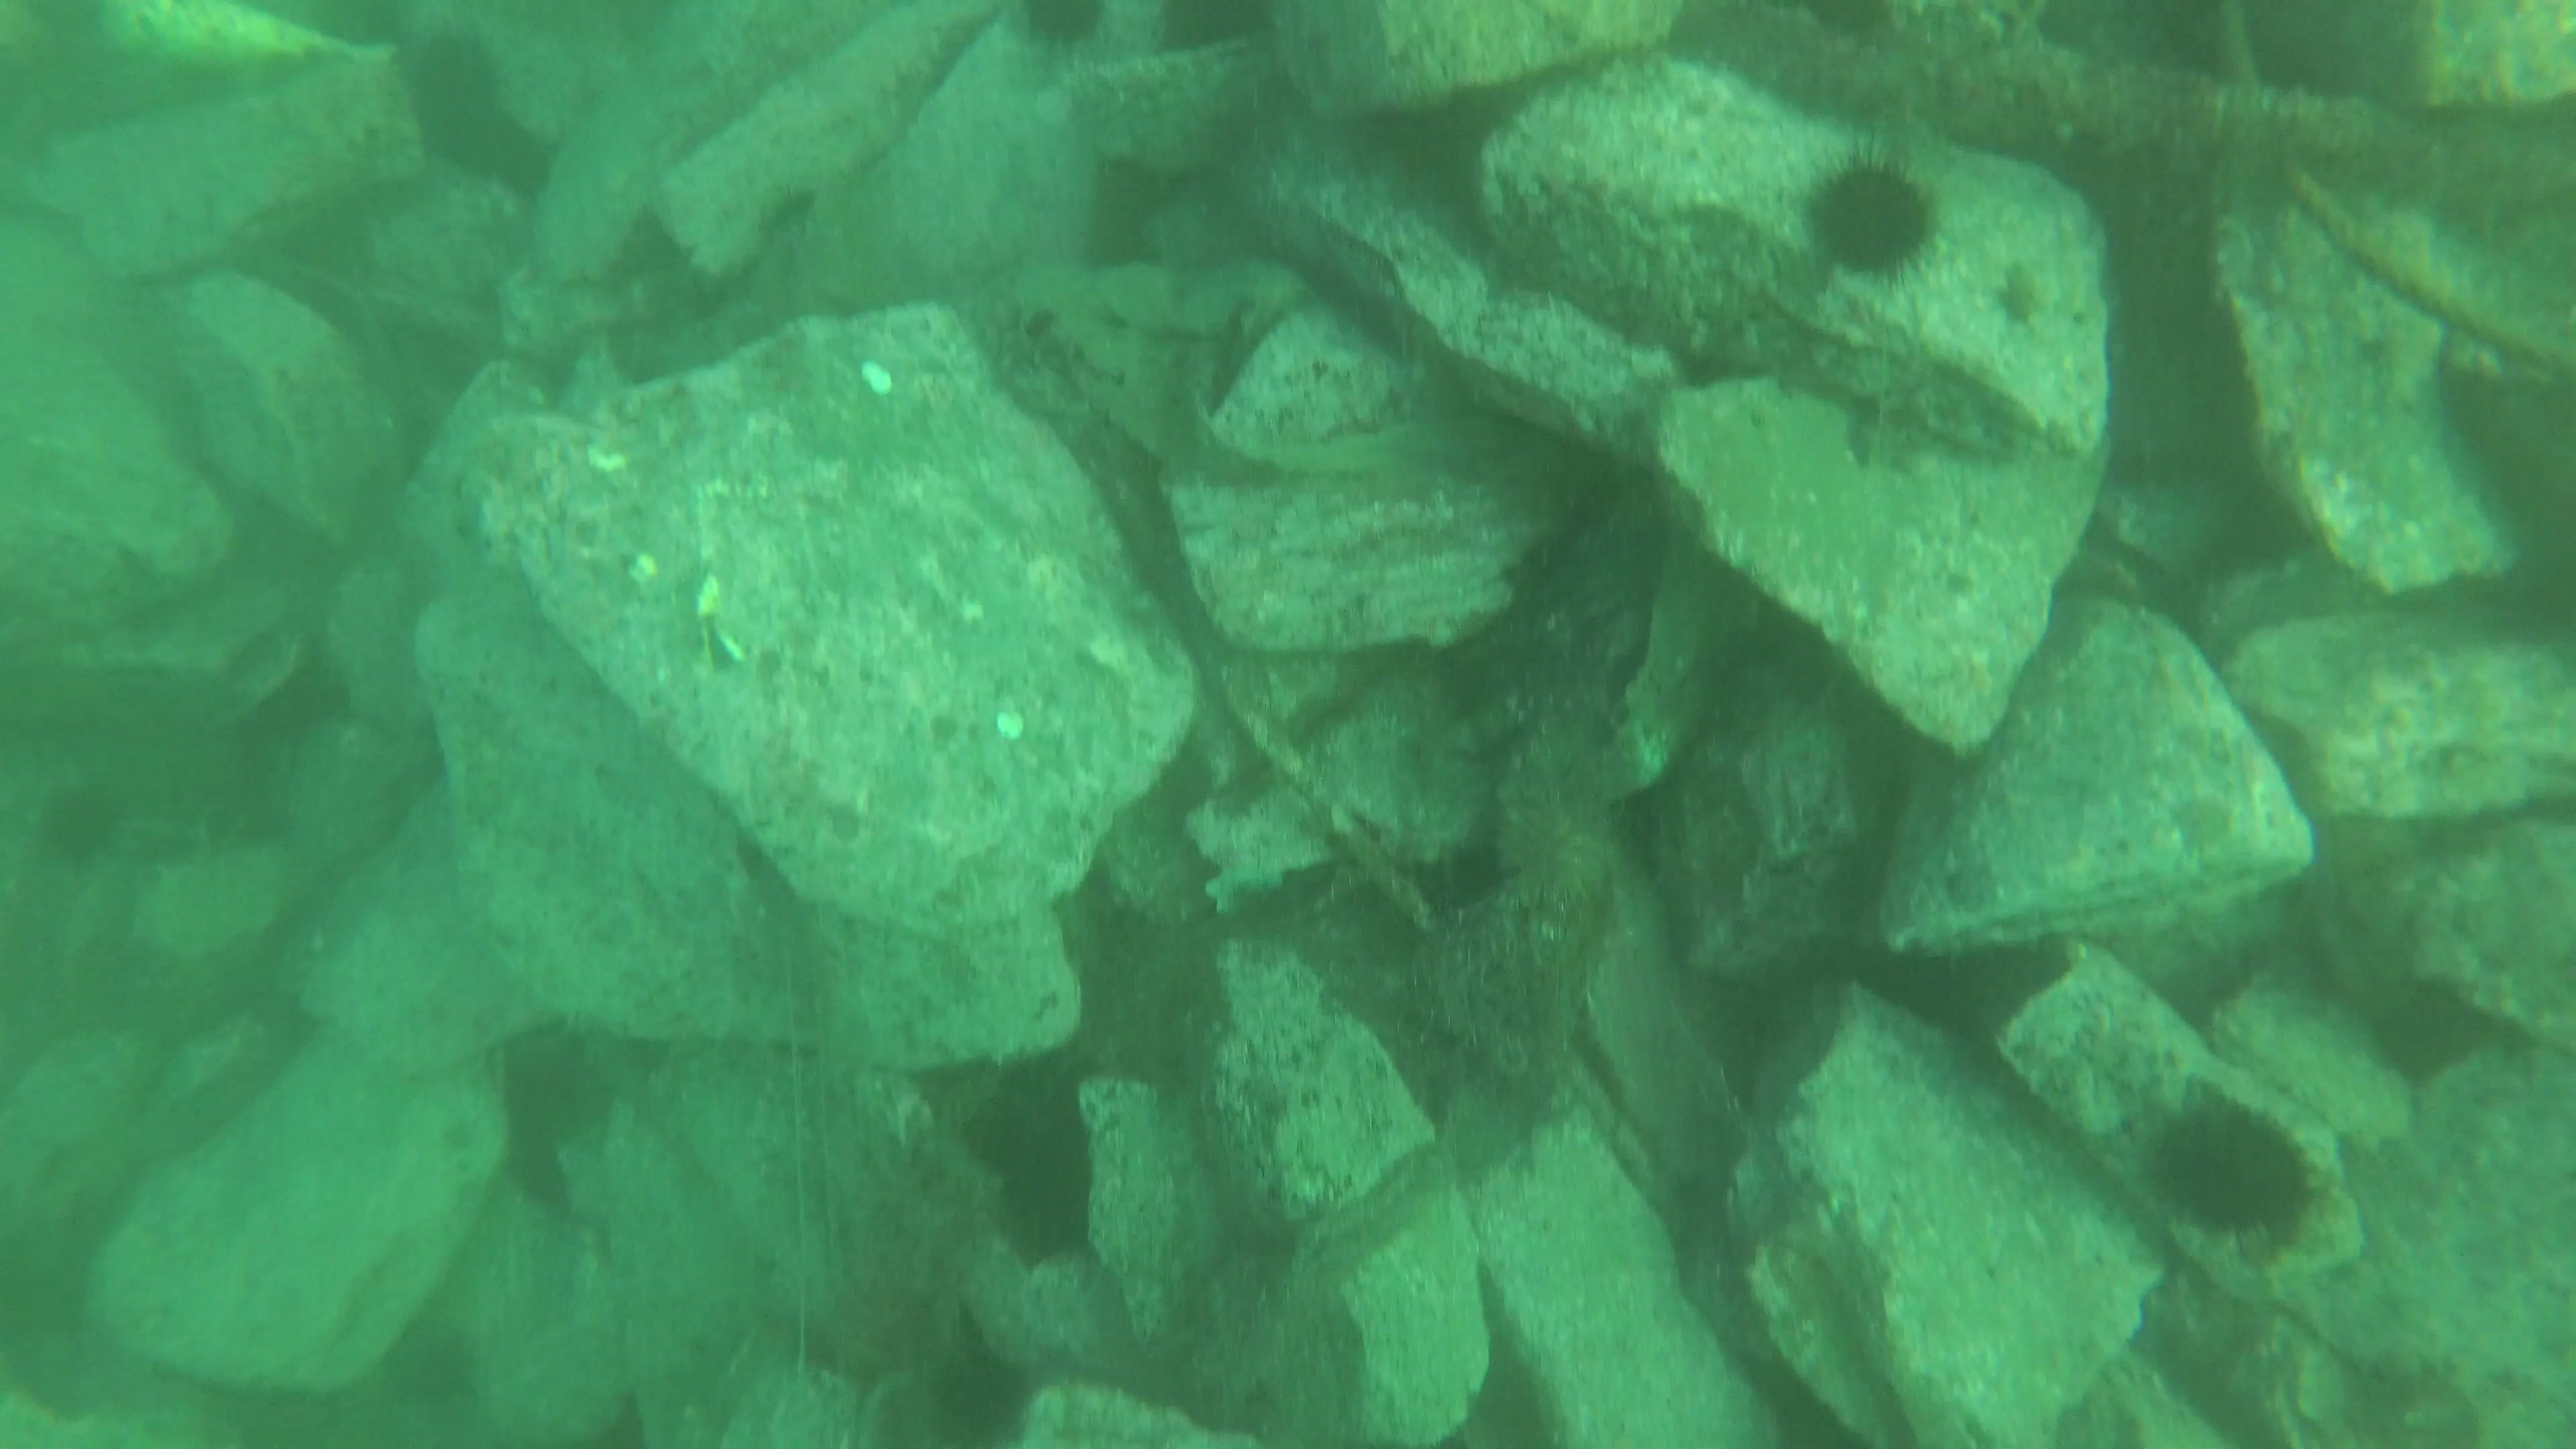echinus: (2139, 1088, 2323, 1247), (1796, 147, 1946, 285), (30, 773, 131, 872), (996, 0, 1118, 67)
